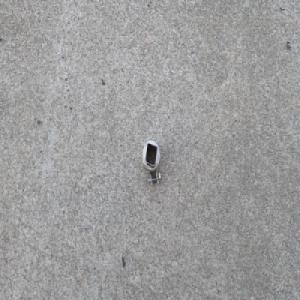MetalPart: (141, 137, 162, 187)
